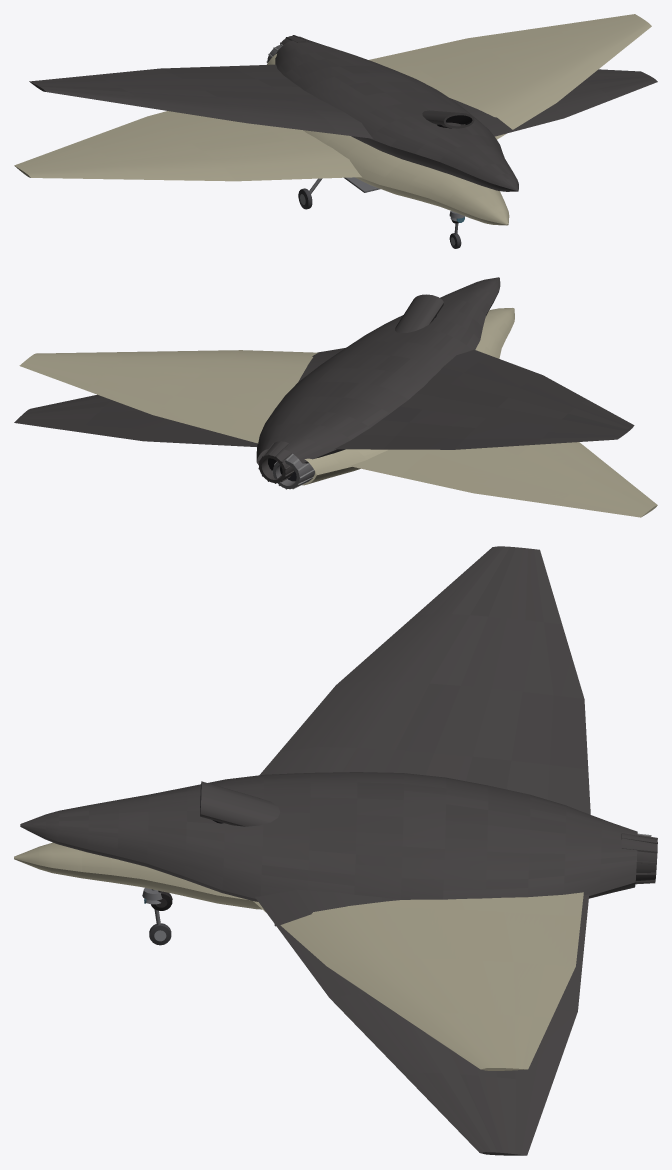
The model's file is carrierDrone__carrier_drone.glb.
3 views of the same model, one above another, from view 1: azimuth 30°, elevation 25°; view 2: azimuth 150°, elevation 25°; view 3: azimuth 270°, elevation 25° (orthographic). The views are drawn at different scales.
Parts seen in each view (by area): view 1: Fuselage_Mesh, Wreck; view 2: Wreck, Fuselage_Mesh; view 3: Wreck, Fuselage_Mesh.
Part boxes in pixels (x1,y1,x2,y2): Fuselage_Mesh: (14,14,651,248); Wreck: (29,35,657,223); Wreck: (14,277,634,483); Fuselage_Mesh: (19,308,657,517); Wreck: (20,546,657,1155); Fuselage_Mesh: (14,833,651,1070).
Size of what is drawn, in the model's own units: 19.18 by 4.13 by 12.15.
